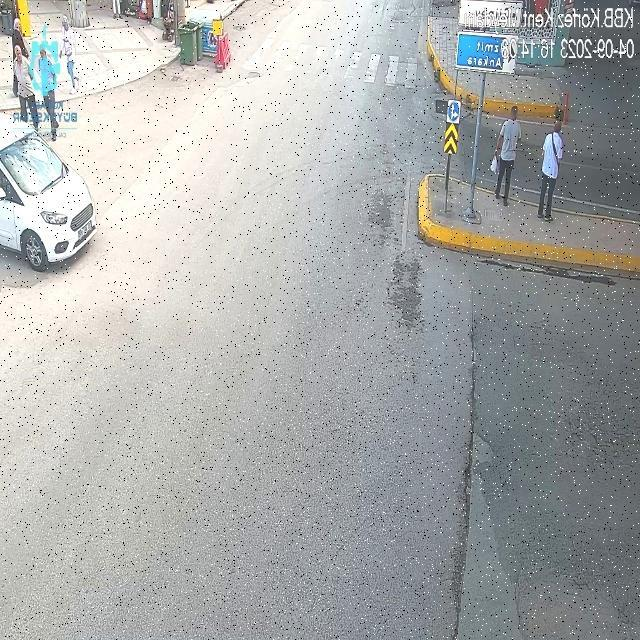Car: (36, 86, 338, 218)
